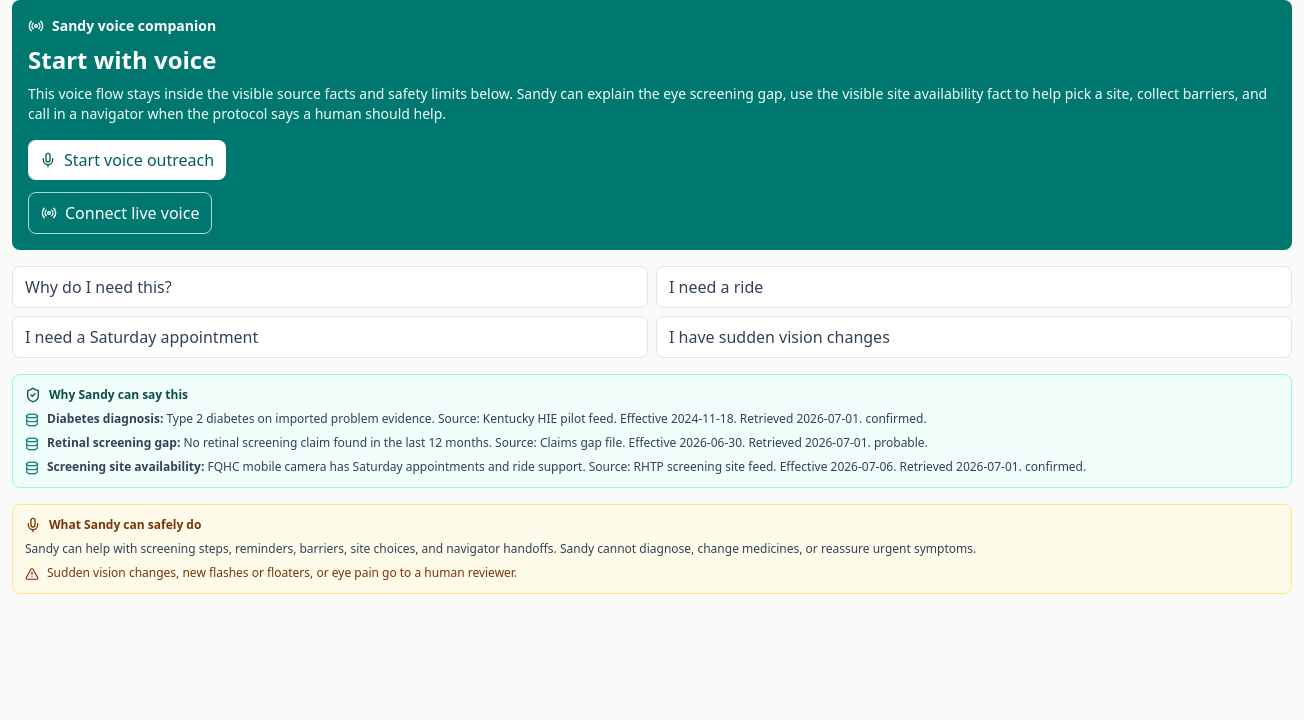
Test: VoiceCompanionScreen › connects live voice through the gated browser connector
Step 1. Click the button "Connect live voice" → (120,213), box [28,192,212,234]
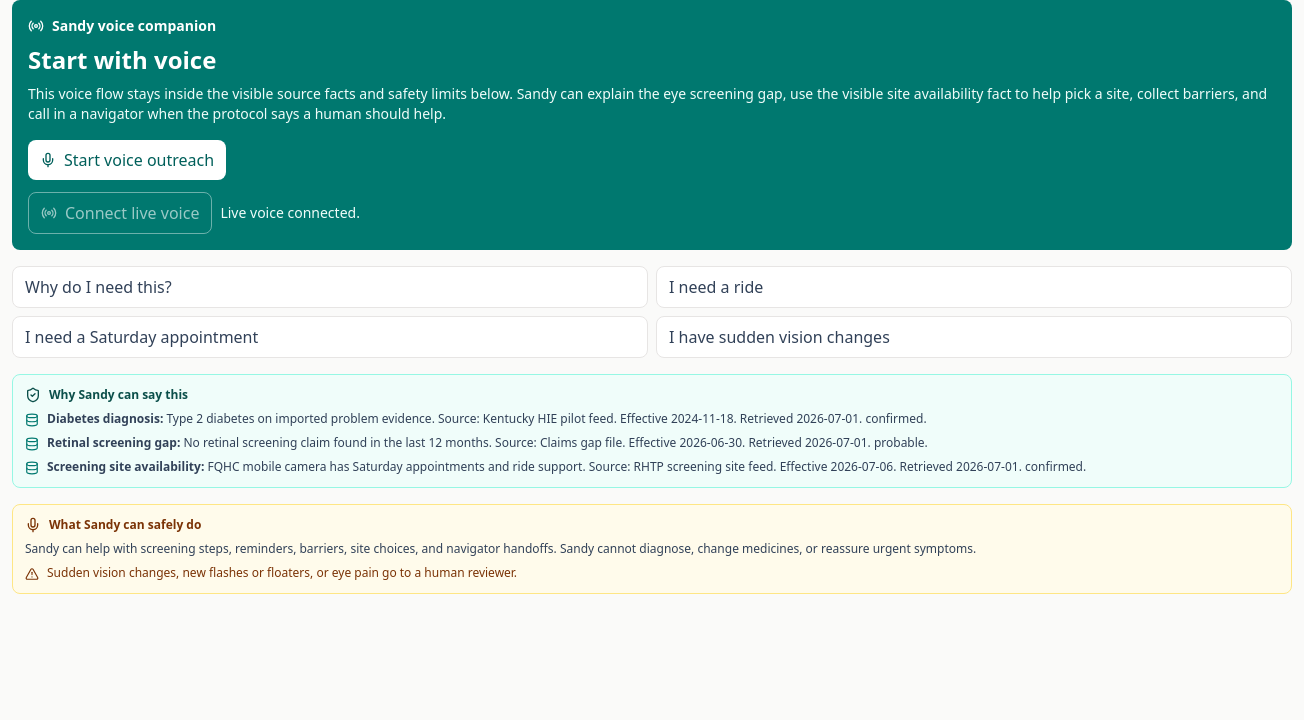
Expected: the text "Live voice connected." is shown, [220,203,360,223]
